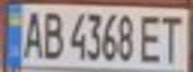3: (84, 9, 103, 61)
4: (66, 8, 87, 61)
6: (100, 9, 121, 62)
8: (115, 10, 139, 62)
A: (18, 7, 45, 60)
B: (39, 7, 66, 61)
E: (136, 11, 166, 64)
T: (157, 11, 187, 64)
